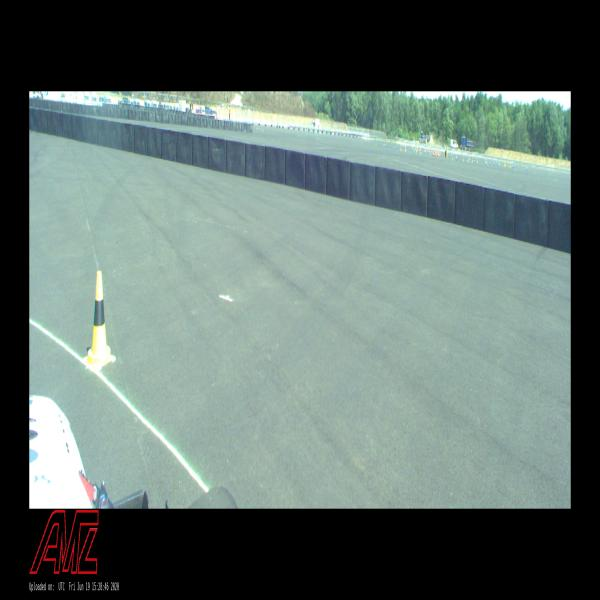yellow_cone: (86, 272, 112, 368)
